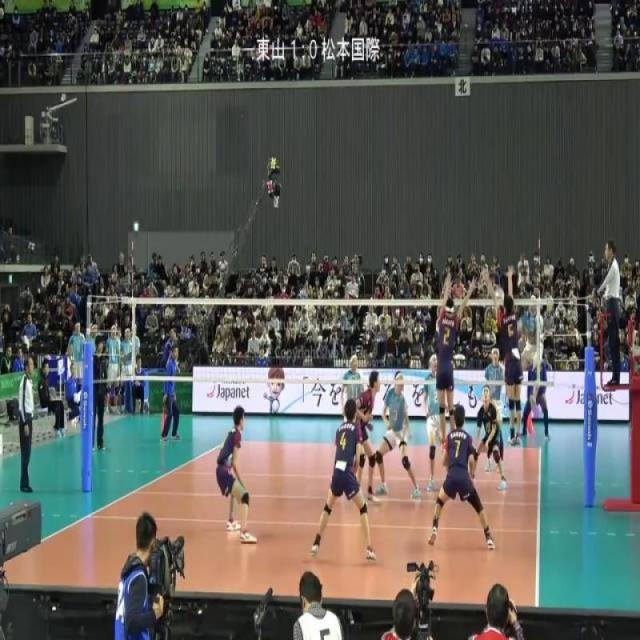volleyball: (494, 286, 506, 302)
